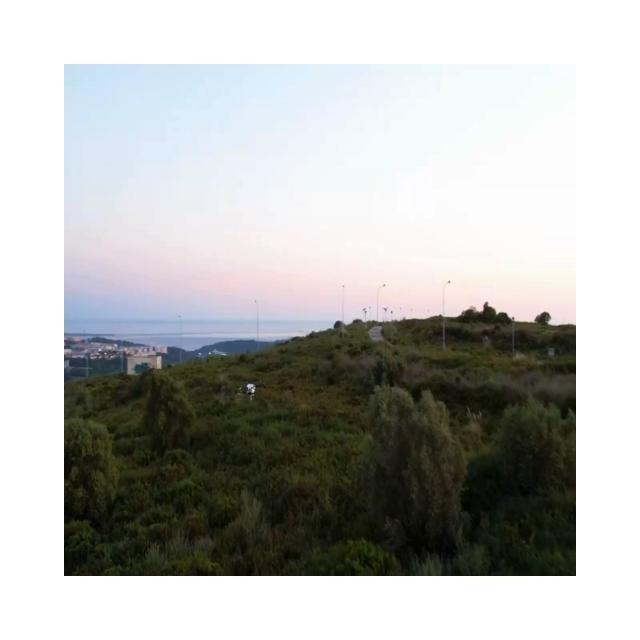drone: (235, 376, 266, 401)
